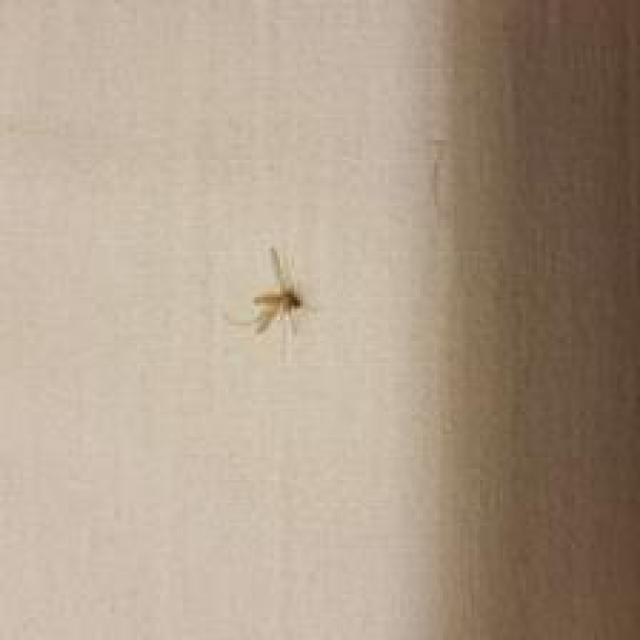Culex: (226, 244, 317, 347)
